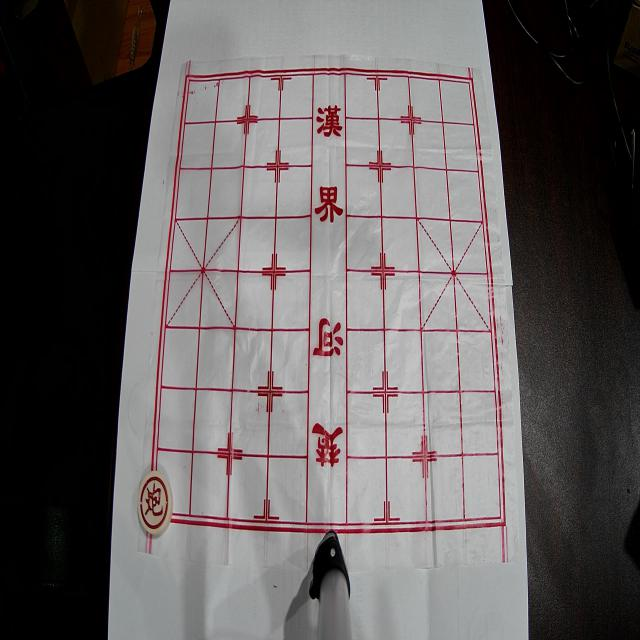red-cannon: (138, 470, 173, 536)
